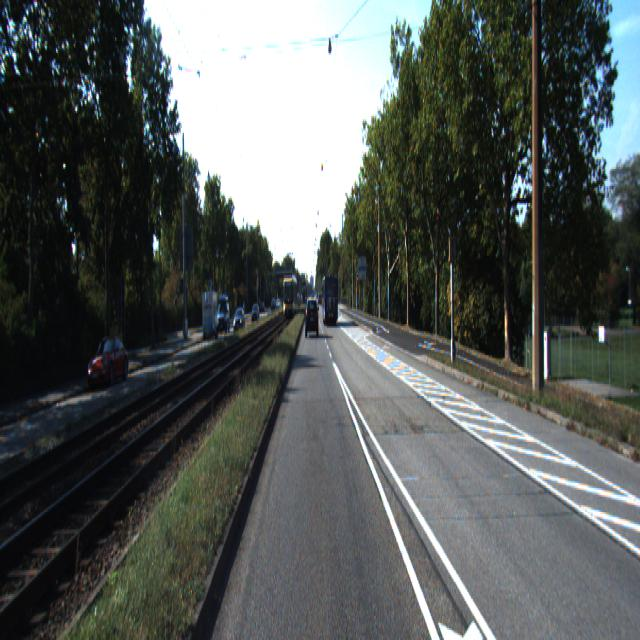Car: (87, 331, 130, 389), (202, 289, 218, 342), (322, 274, 338, 325), (306, 297, 319, 336)
